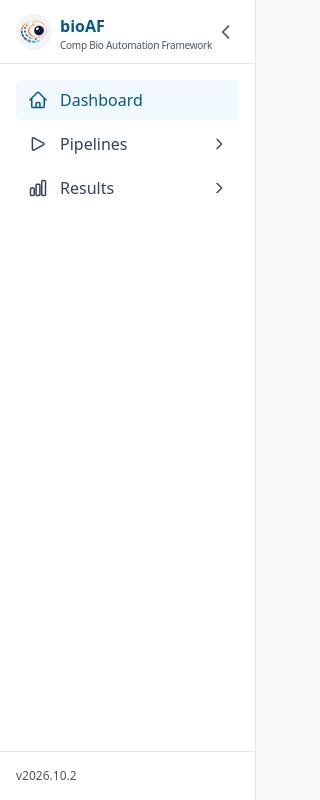
Test: Sidebar › shows Results to a role with only pipelines:view (View Results via OR)
Click the button "Results" at (128, 188), box [16,168,239,208]
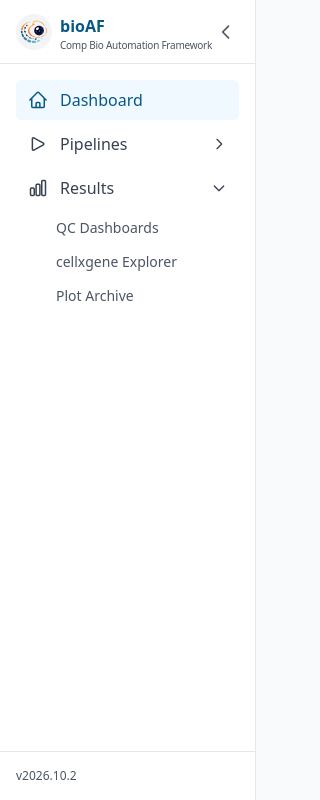
Check: the link "QC Dashboards" is shown, box [56,218,159,237]
